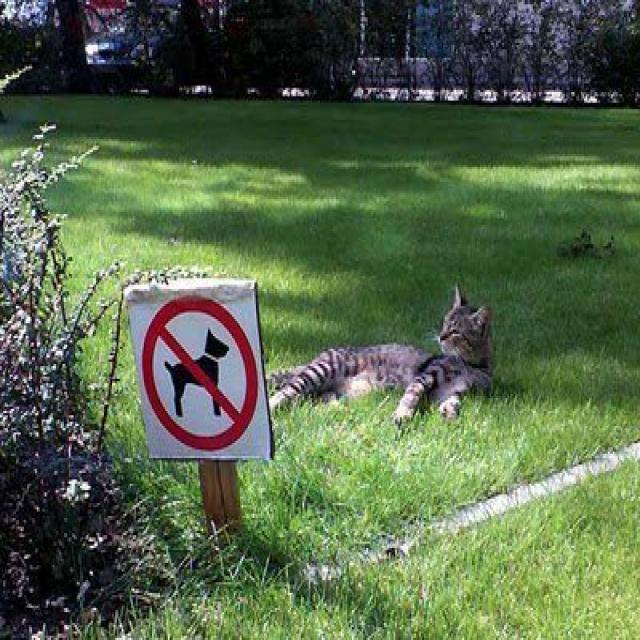cat: (261, 270, 522, 449)
